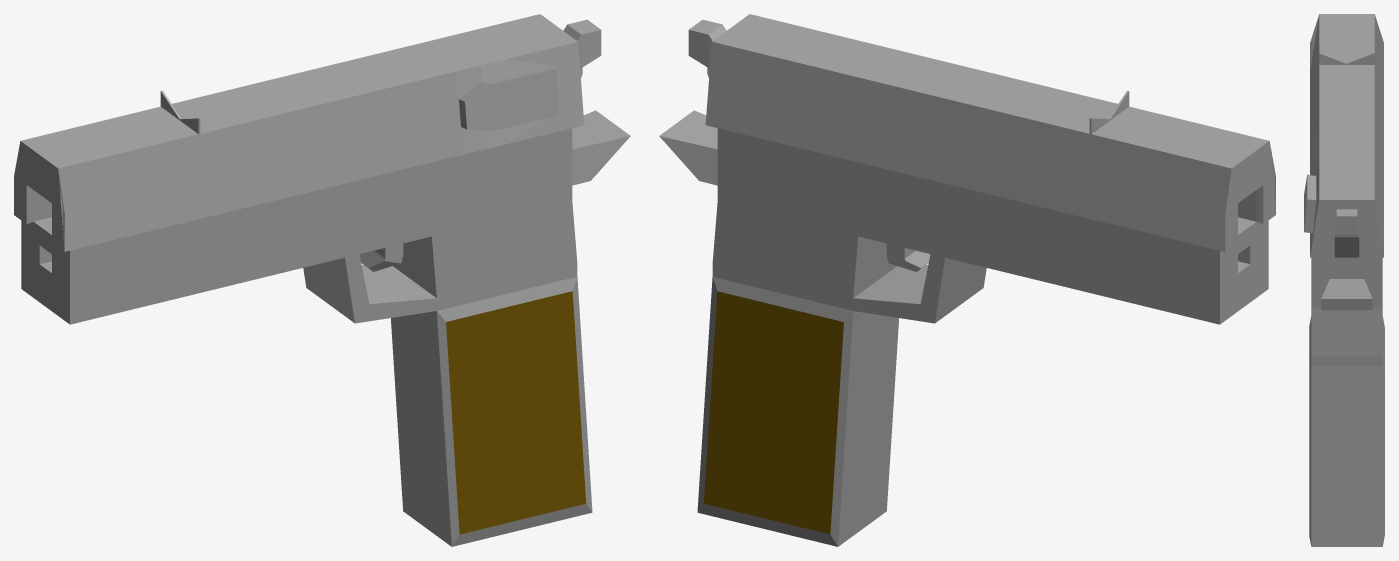
The model's file is pistol.fbx.
The picture shows the model from 3 angles, left to right: view 1: azimuth 30°, elevation 25°; view 2: azimuth 150°, elevation 25°; view 3: azimuth 270°, elevation 25°; orthographic projection. The views are drawn at different scales.
Visible parts, largest first — view 1: Cube; view 2: Cube; view 3: Cube.
Boxes of the visible parts, bbox=[...] form: Cube: bbox=[14, 14, 630, 546]; Cube: bbox=[659, 14, 1275, 546]; Cube: bbox=[1304, 14, 1384, 546].
Bounding box in the file's own units: 114 × 92.23 × 18.99.
